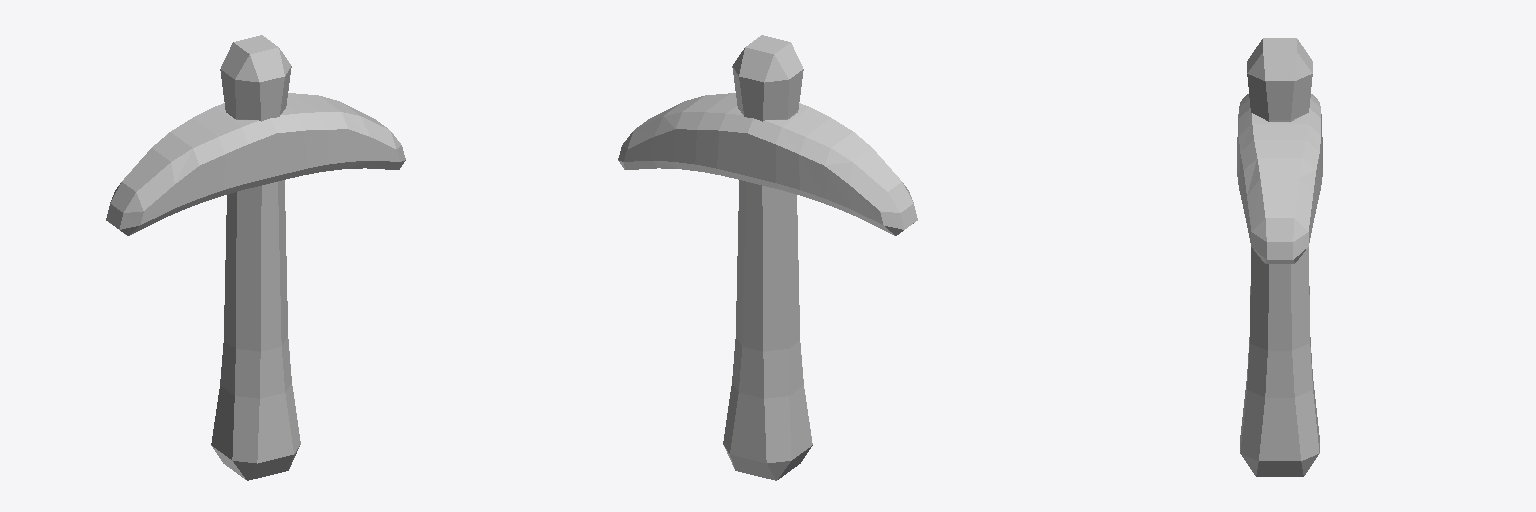
Rendered from Pickaxe_Stone.obj.
3 renders of one model, left to right at view 1: azimuth 30°, elevation 25°; view 2: azimuth 150°, elevation 25°; view 3: azimuth 270°, elevation 25°, orthographic.
Visible parts, largest first — view 1: Pickaxe_Stone_Cube.537; view 2: Pickaxe_Stone_Cube.537; view 3: Pickaxe_Stone_Cube.537.
Part boxes in pixels (left/top/right/bottom): Pickaxe_Stone_Cube.537: left=106, top=35, right=405, bottom=480; Pickaxe_Stone_Cube.537: left=618, top=35, right=917, bottom=480; Pickaxe_Stone_Cube.537: left=1237, top=38, right=1322, bottom=476.
Size of the model in its own units: 1.22 by 1.71 by 0.3154.